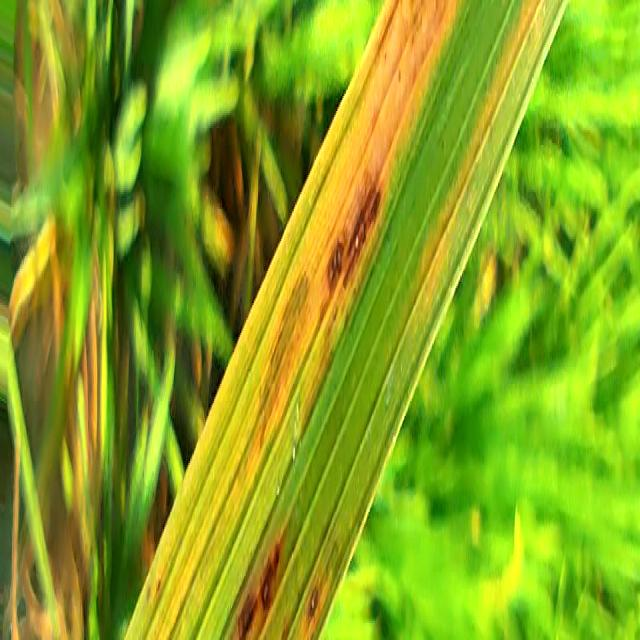NBS: (344, 186, 382, 290), (261, 539, 281, 609), (327, 232, 344, 297), (238, 590, 258, 640)
